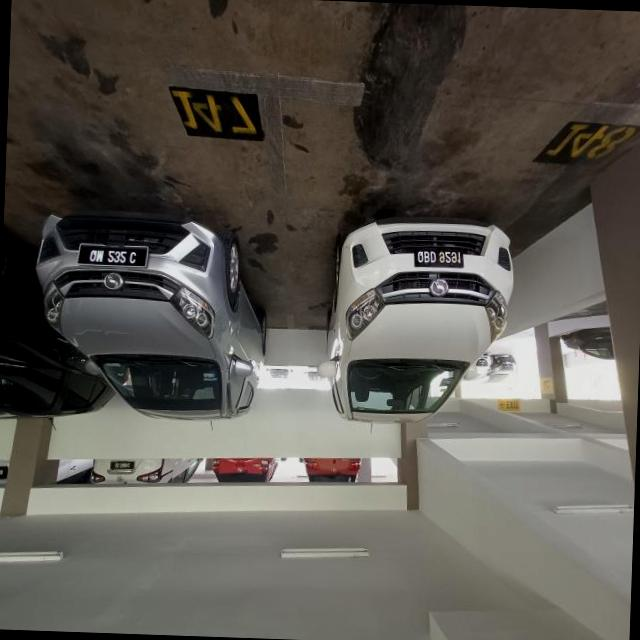PeroduaAxia: (314, 212, 516, 430)
